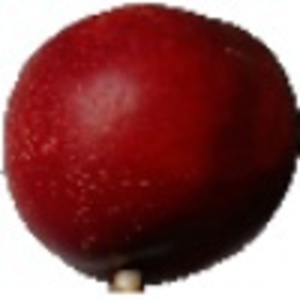nectarina: (2, 2, 300, 296)
